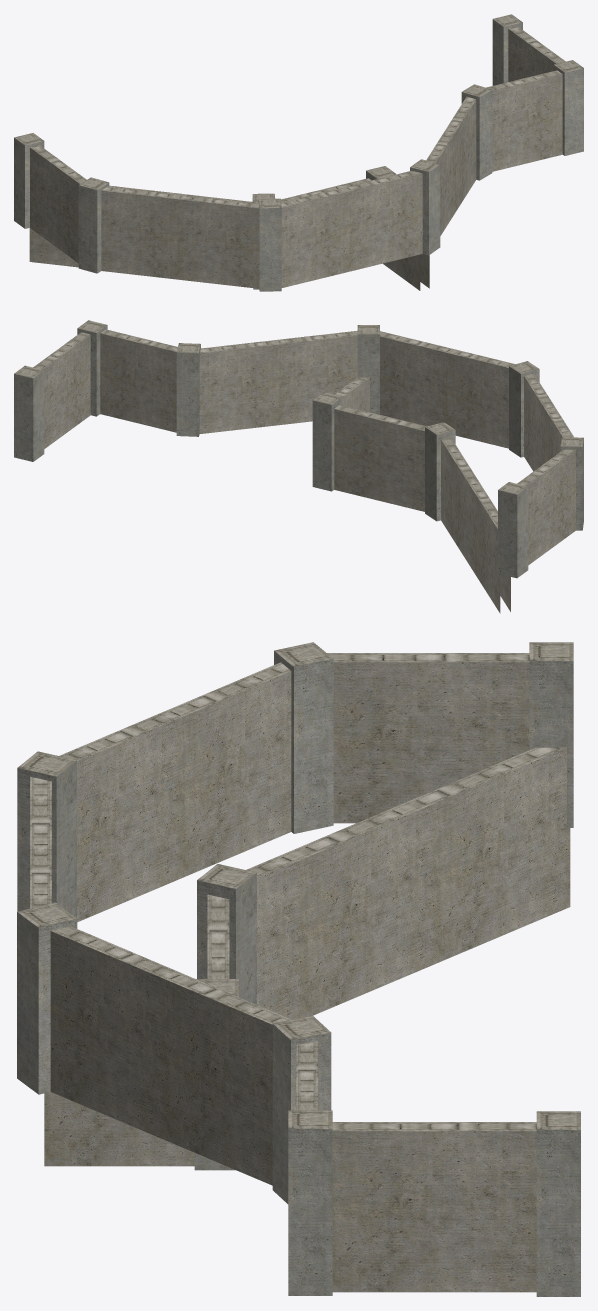
Rendered from poi_all_corral_half_32x32_s02_l0.fbx.
The picture shows the model from 3 angles, top to bottom: view 1: azimuth 30°, elevation 25°; view 2: azimuth 150°, elevation 25°; view 3: azimuth 270°, elevation 25°; orthographic projection. The views are drawn at different scales.
Parts seen in each view (by area): view 1: mesh_node; view 2: mesh_node; view 3: mesh_node.
Part boxes in pixels (x1,y1,x2,y2): mesh_node: (14, 14, 583, 291); mesh_node: (14, 320, 583, 613); mesh_node: (17, 642, 580, 1296).
Bounding box in the file's own units: 26.02 × 6.15 × 12.71.
